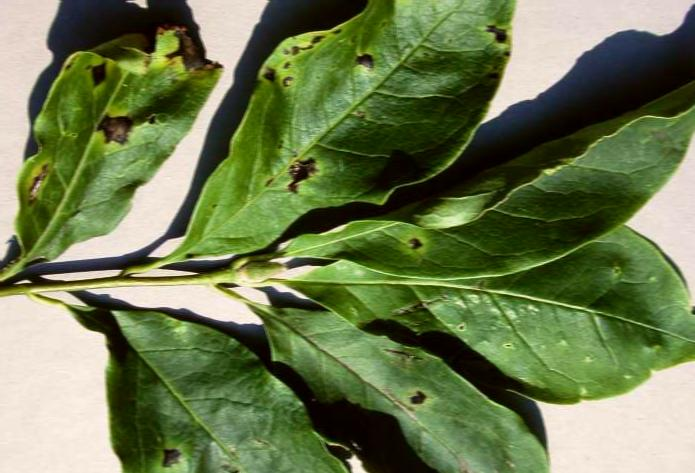Tomato leaf bacterial spot: (174, 0, 518, 270), (287, 63, 695, 274), (217, 290, 560, 473), (0, 0, 213, 265)
